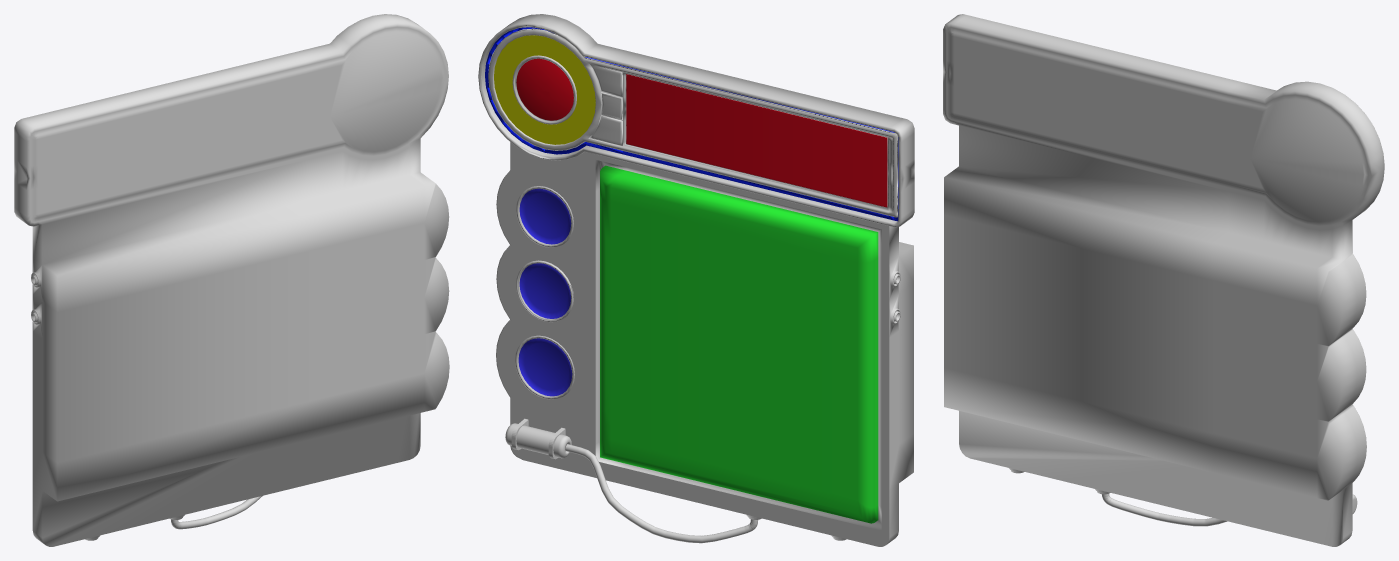
The model's file is maptool.fbx.
3 renders of one model, left to right at view 1: azimuth 30°, elevation 25°; view 2: azimuth 150°, elevation 25°; view 3: azimuth 330°, elevation 25°, orthographic.
Visible parts, largest first — view 1: Cube.001; view 2: Cube.001; view 3: Cube.001.
Part boxes in pixels (left/top/right/bottom): Cube.001: left=14, top=14, right=449, bottom=546; Cube.001: left=478, top=14, right=914, bottom=546; Cube.001: left=943, top=14, right=1384, bottom=546.
Bounding box in the file's own units: 0.6541 × 0.7015 × 0.1085.
